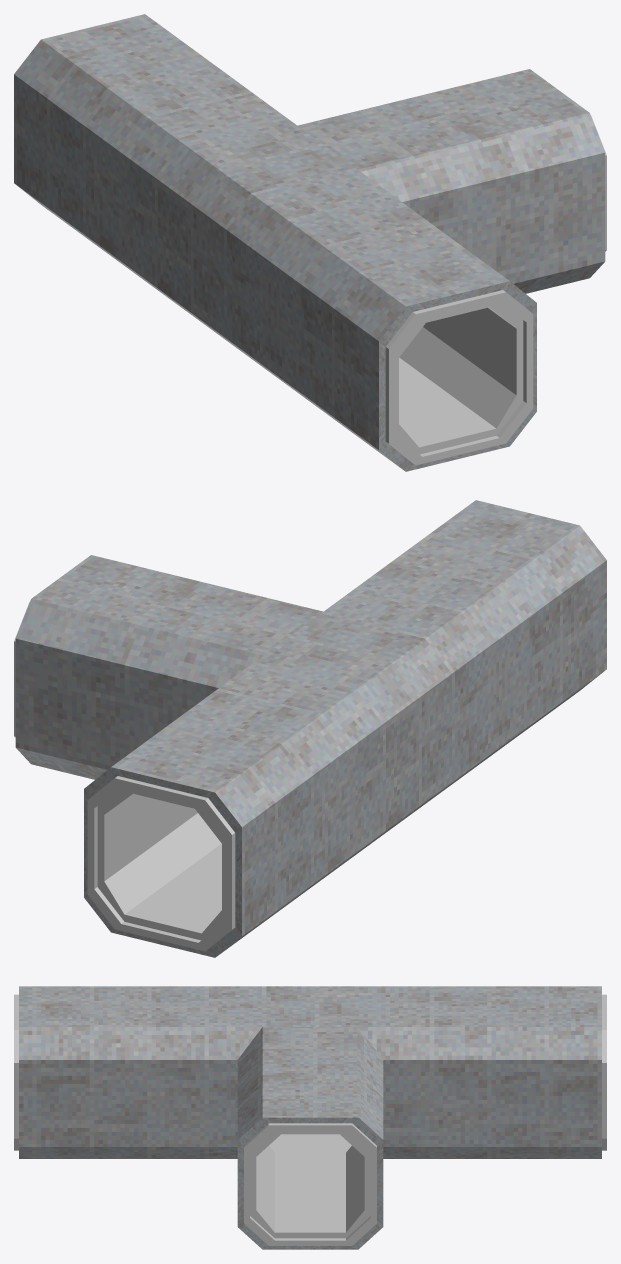
Rendered from shipThallway.fbx.
3 renders of one model, top to bottom at view 1: azimuth 30°, elevation 25°; view 2: azimuth 150°, elevation 25°; view 3: azimuth 270°, elevation 25°, orthographic. The views are drawn at different scales.
Parts seen in each view (by area): view 1: geo_shipTJunction; view 2: geo_shipTJunction; view 3: geo_shipTJunction.
Part boxes in pixels (x1,y1,x2,y2): geo_shipTJunction: (14, 14, 606, 471); geo_shipTJunction: (14, 500, 606, 957); geo_shipTJunction: (14, 986, 606, 1249).
Size of the model in its own units: 1167 by 500 by 2034.
